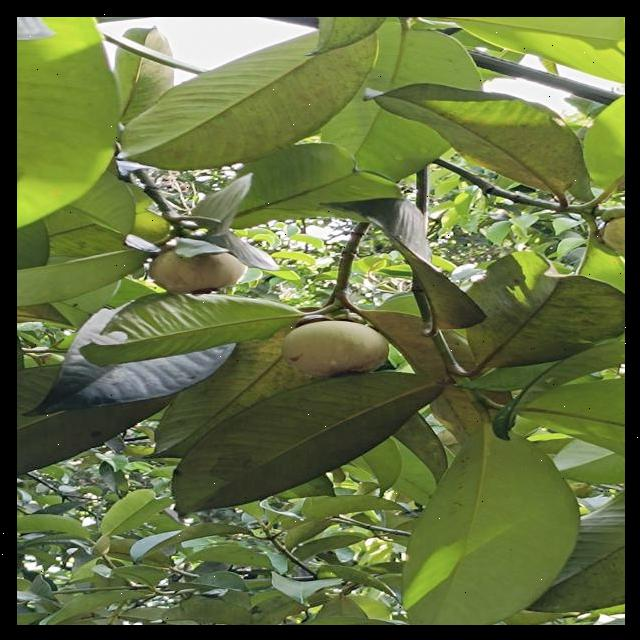mangosteen: (136, 199, 272, 339), (258, 280, 382, 396)
